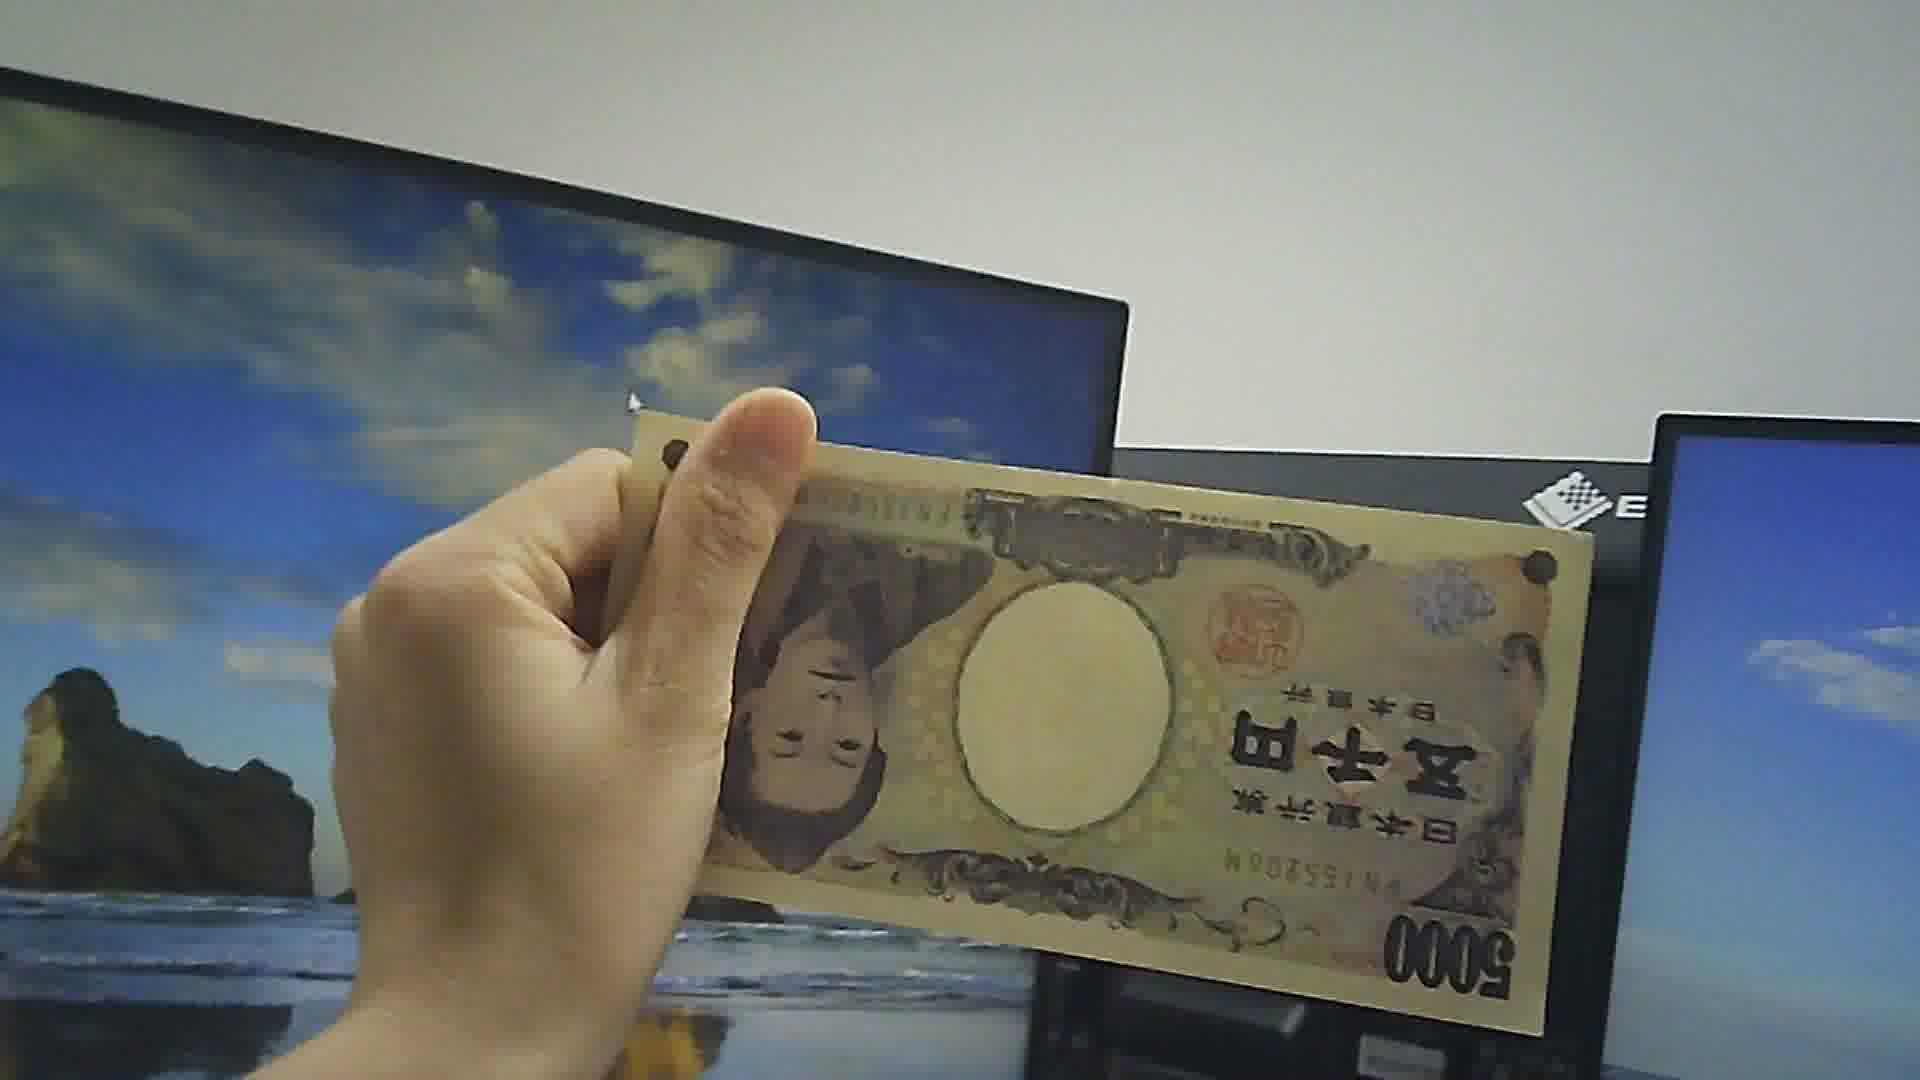5,000 Yen: (607, 407, 1561, 1051)
